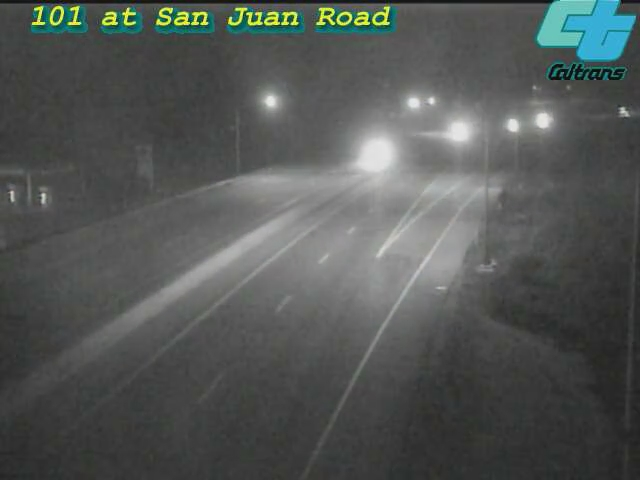vehicle: (342, 130, 392, 180), (430, 109, 480, 159), (488, 102, 538, 152), (516, 96, 566, 146), (600, 87, 640, 137)
